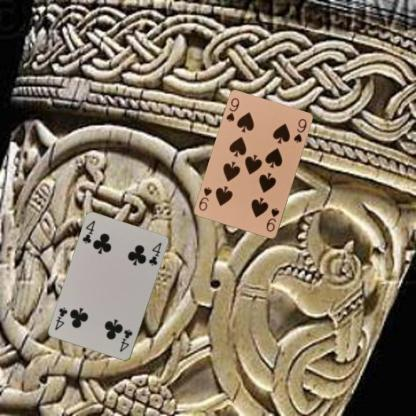4c: (117, 326, 134, 354), (80, 218, 96, 245)
9s: (224, 95, 241, 124), (263, 206, 281, 233)
